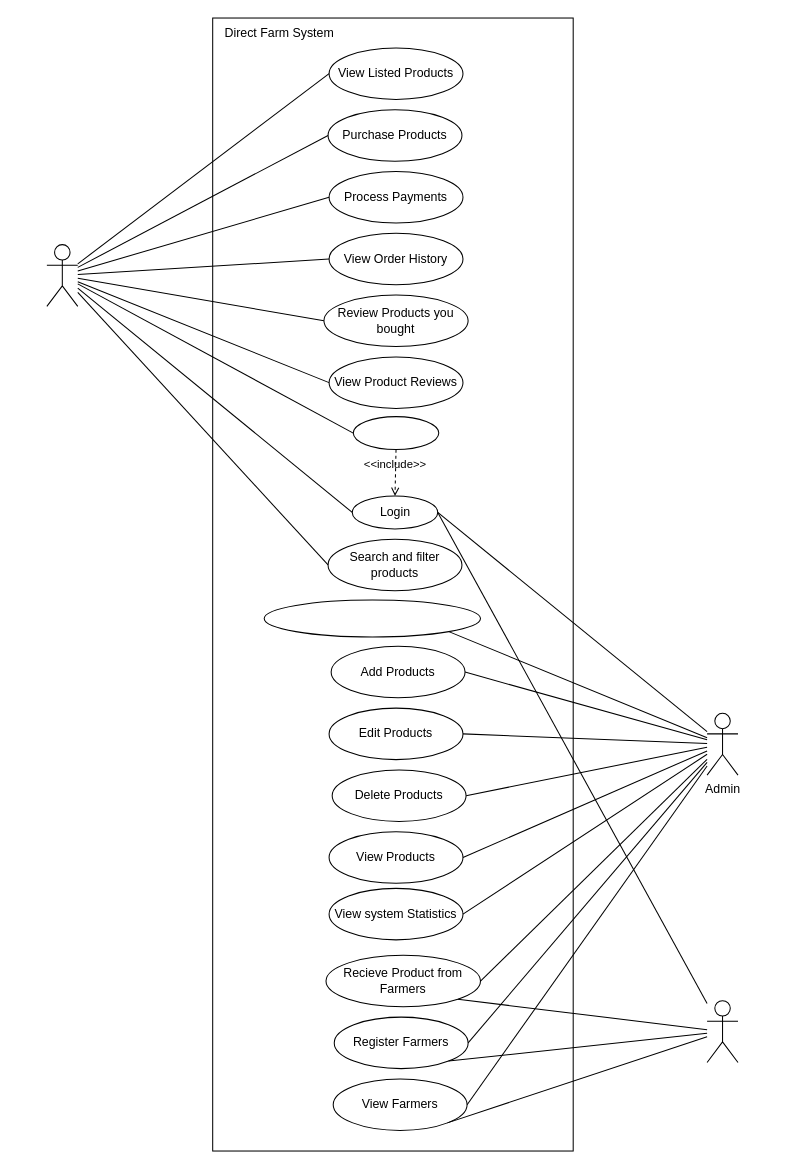
This 798x1169 diagram has some shape labels left out. Here are the shapes that lost their labels. From the top down, the box of each, then its label:
(46, 244, 78, 306): Business Owner
(352, 416, 439, 450): Sign Up
(263, 599, 480, 637): Register WarehouseManagers
(706, 1000, 738, 1062): Warehouse Mnaager
